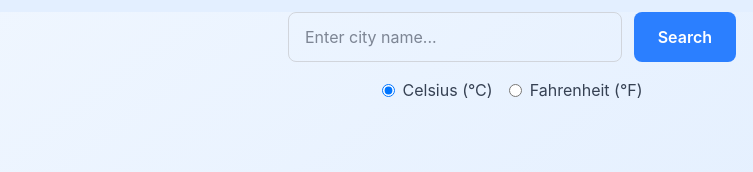
Test: WeatherSearchForm › shows validation error when city is empty
This screenshot has width=753, height=172.
Click the button "Search" at (685, 37), box [634, 12, 736, 62]
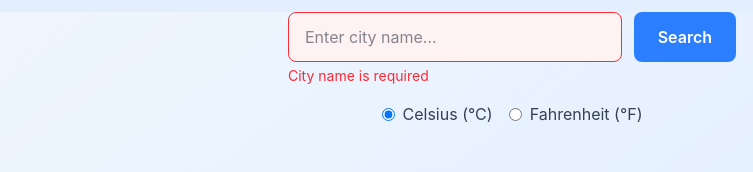
Expected: the text "City name is required" is shown, [288, 67, 429, 84]
